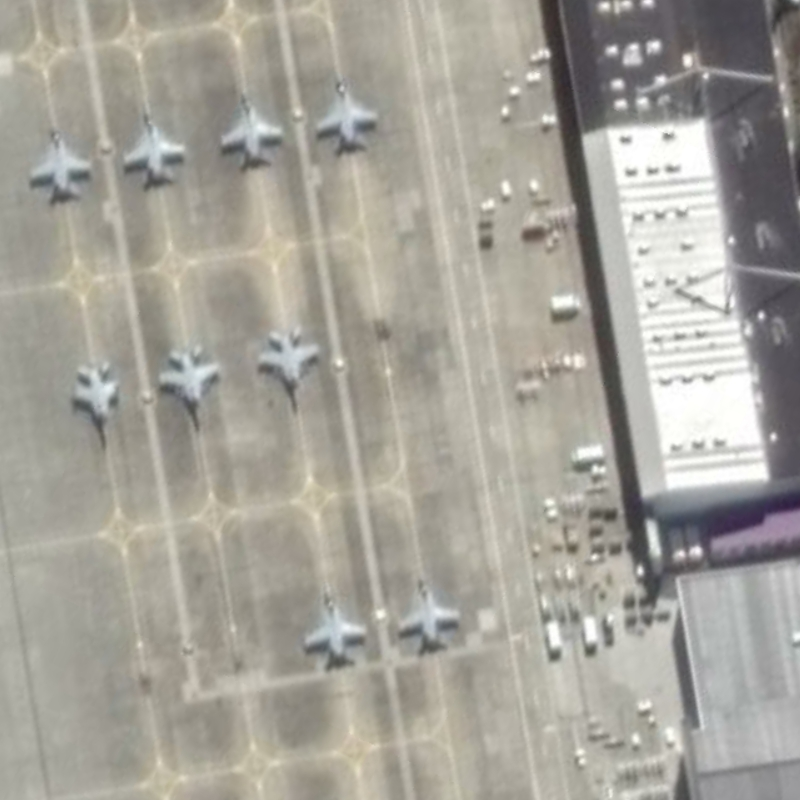A16: (210, 66, 291, 177), (293, 567, 376, 672), (249, 315, 330, 422), (392, 553, 469, 657), (152, 334, 230, 433), (118, 90, 193, 192), (310, 62, 382, 157), (65, 352, 130, 453)
